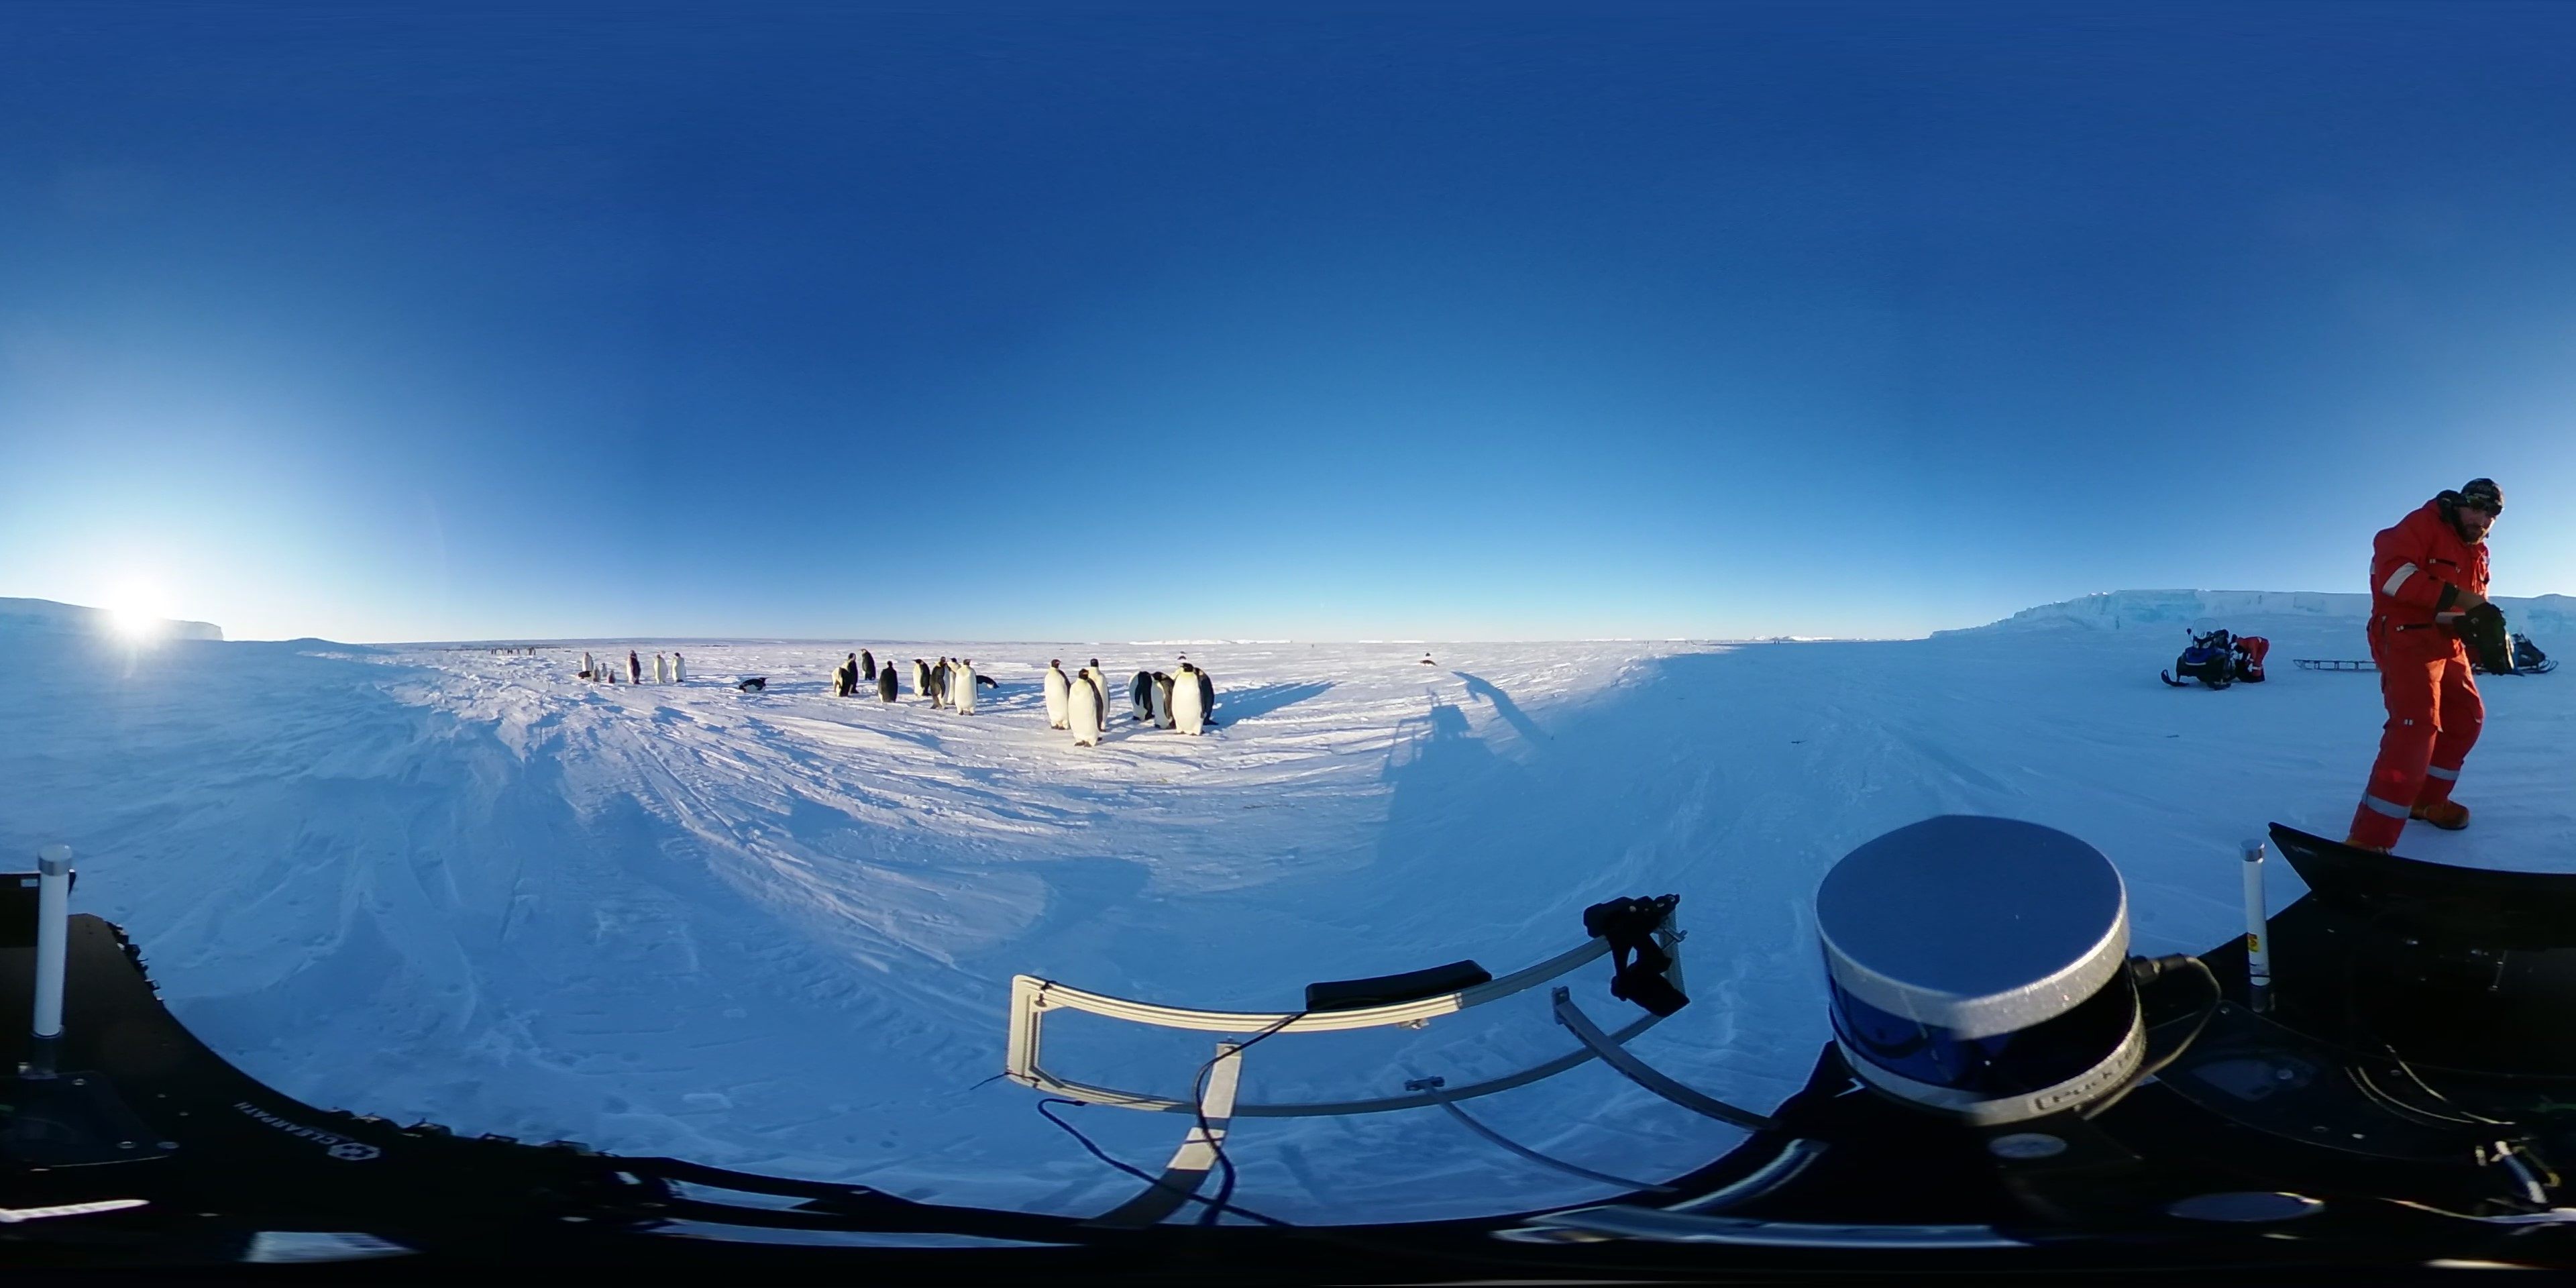adult_standing_penguin: (1068, 665, 1104, 757), (1171, 659, 1209, 741), (1040, 657, 1074, 731), (1148, 669, 1178, 736), (958, 655, 982, 718), (876, 657, 902, 706)
adult_toboggan_penguin: (734, 675, 777, 697)
researcher: (2349, 473, 2523, 858), (2231, 629, 2272, 683)
